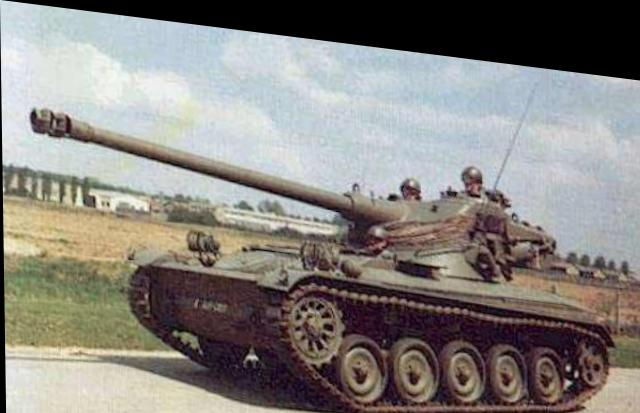tank: (121, 146, 611, 412)
